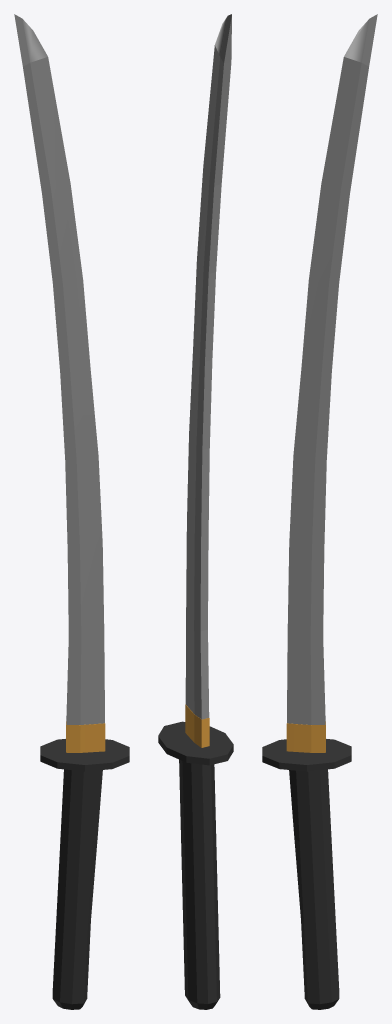
Rendered from Katana.fbx.
3 views of the same model, side by side, from view 1: azimuth 90°, elevation 25°; view 2: azimuth 210°, elevation 25°; view 3: azimuth 270°, elevation 25° (orthographic). The views are drawn at different scales.
Visible parts, largest first — view 1: Cylinder; view 2: Cylinder; view 3: Cylinder.
Part boxes in pixels (box(x1,y1,x2,y2)): Cylinder: box(14, 14, 129, 1009); Cylinder: box(158, 14, 233, 1009); Cylinder: box(262, 14, 377, 1009).
Bounding box in the file's own units: 6.14 × 101 × 10.69.
